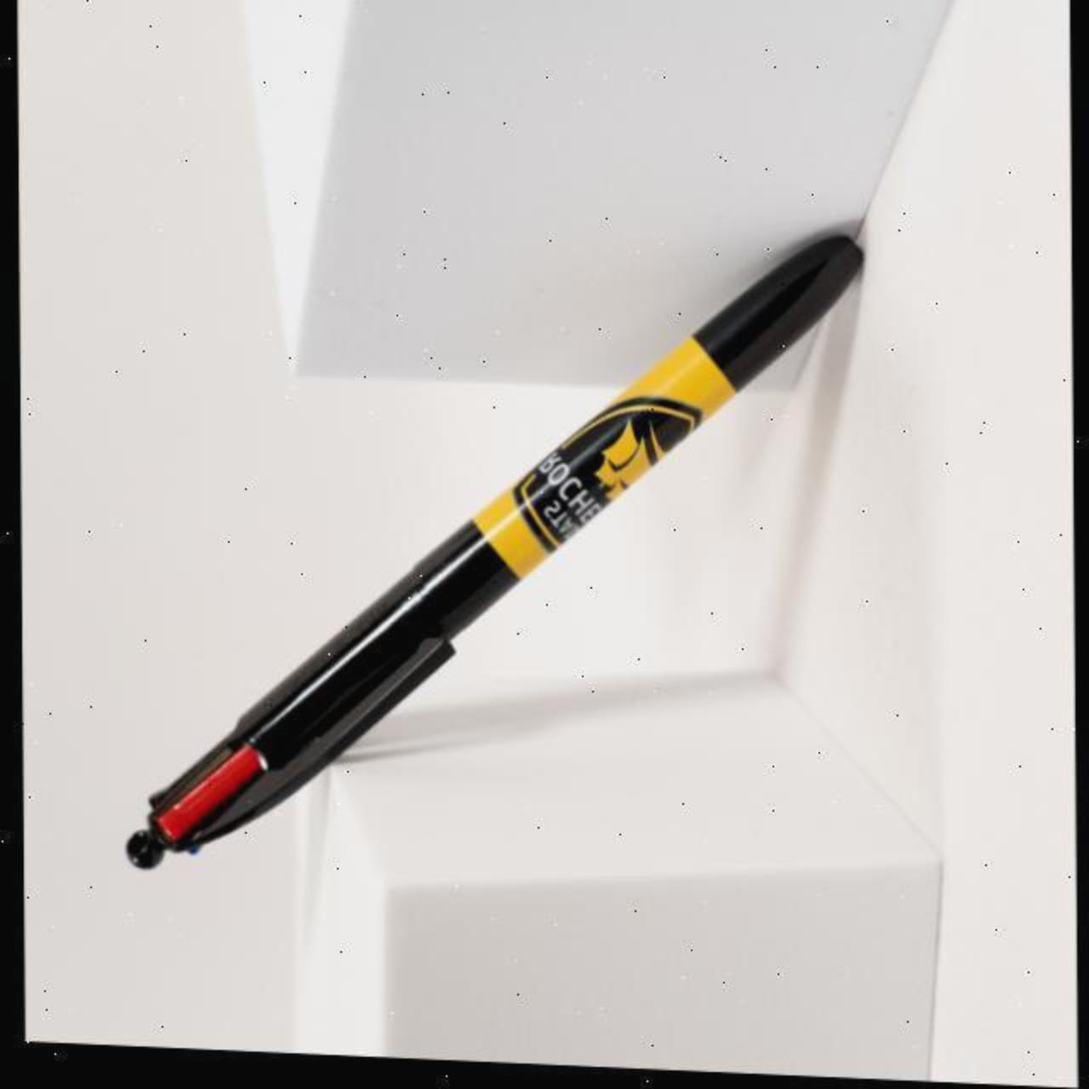pen: (117, 209, 869, 905)
